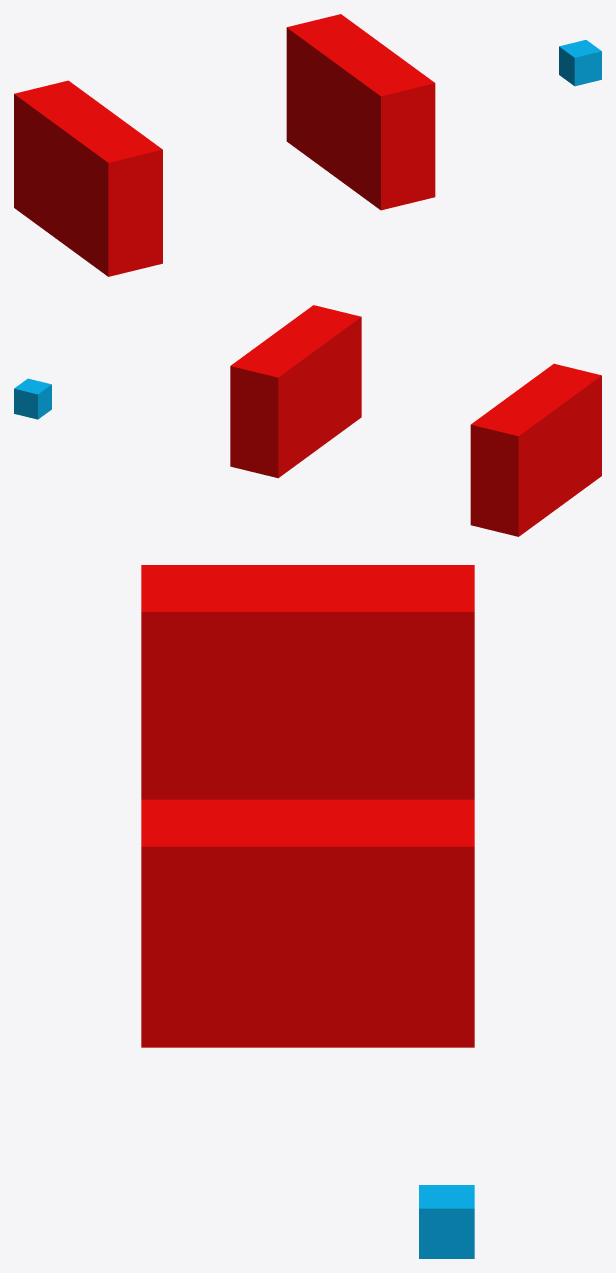
File: xde-assembly.glb
The picture shows the model from 3 angles, top to bottom: view 1: azimuth 30°, elevation 25°; view 2: azimuth 150°, elevation 25°; view 3: azimuth 270°, elevation 25°; orthographic projection. The views are drawn at different scales.
Visible parts, largest first — view 1: Plate-2, Plate-1, Cube-1; view 2: Plate-1, Plate-2, Cube-1; view 3: Plate-2, Plate-1, Cube-1.
Boxes of the visible parts, x1,y1,x2,y2 form: Plate-2: (286, 14, 435, 210); Plate-1: (14, 80, 162, 276); Cube-1: (559, 40, 601, 86); Plate-1: (470, 363, 601, 536); Plate-2: (230, 305, 361, 478); Cube-1: (14, 378, 51, 419); Plate-2: (141, 799, 474, 1047); Plate-1: (141, 565, 474, 799); Cube-1: (419, 1185, 474, 1258).
Size of the model in its own units: 105 by 20 by 30.
